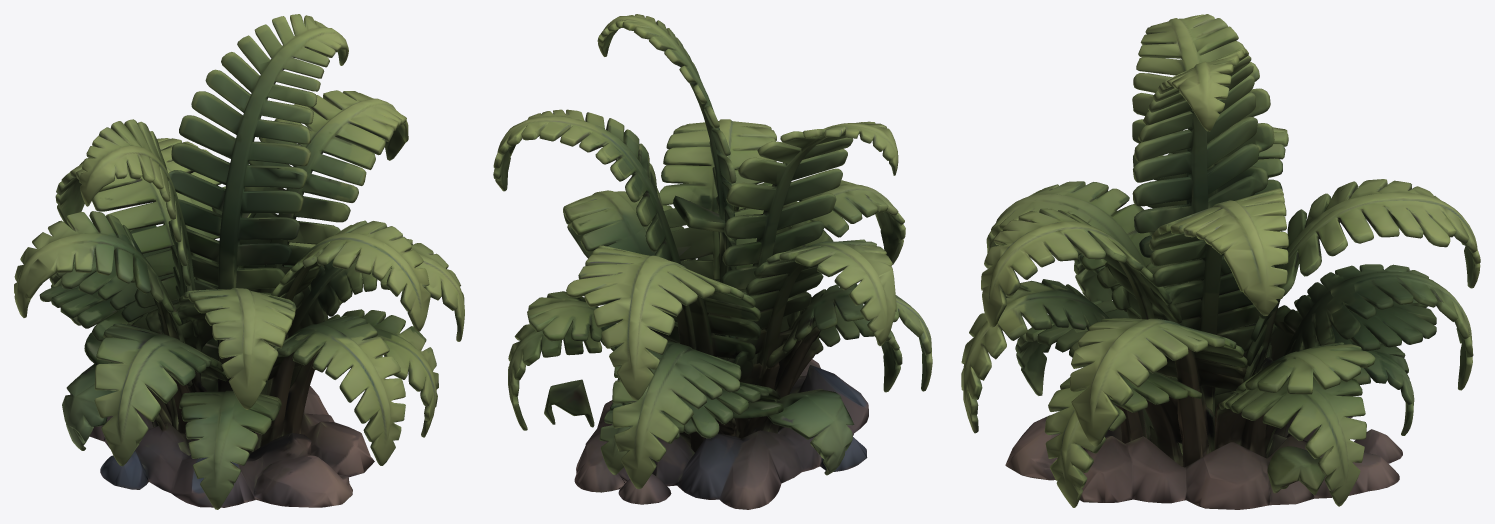
File: fren3.glb
3 renders of one model, left to right at view 1: azimuth 30°, elevation 25°; view 2: azimuth 150°, elevation 25°; view 3: azimuth 270°, elevation 25°, orthographic. The views are drawn at different scales.
Visible parts, largest first — view 1: node_0; view 2: node_0; view 3: node_0.
Boxes of the visible parts, <box> form: node_0: <box>14,14,464,509</box>; node_0: <box>493,14,932,509</box>; node_0: <box>961,14,1480,509</box>.
Size of the model in its own units: 0.9044 by 0.8988 by 0.9628.
Materials: 1 (1 with a texture image).
